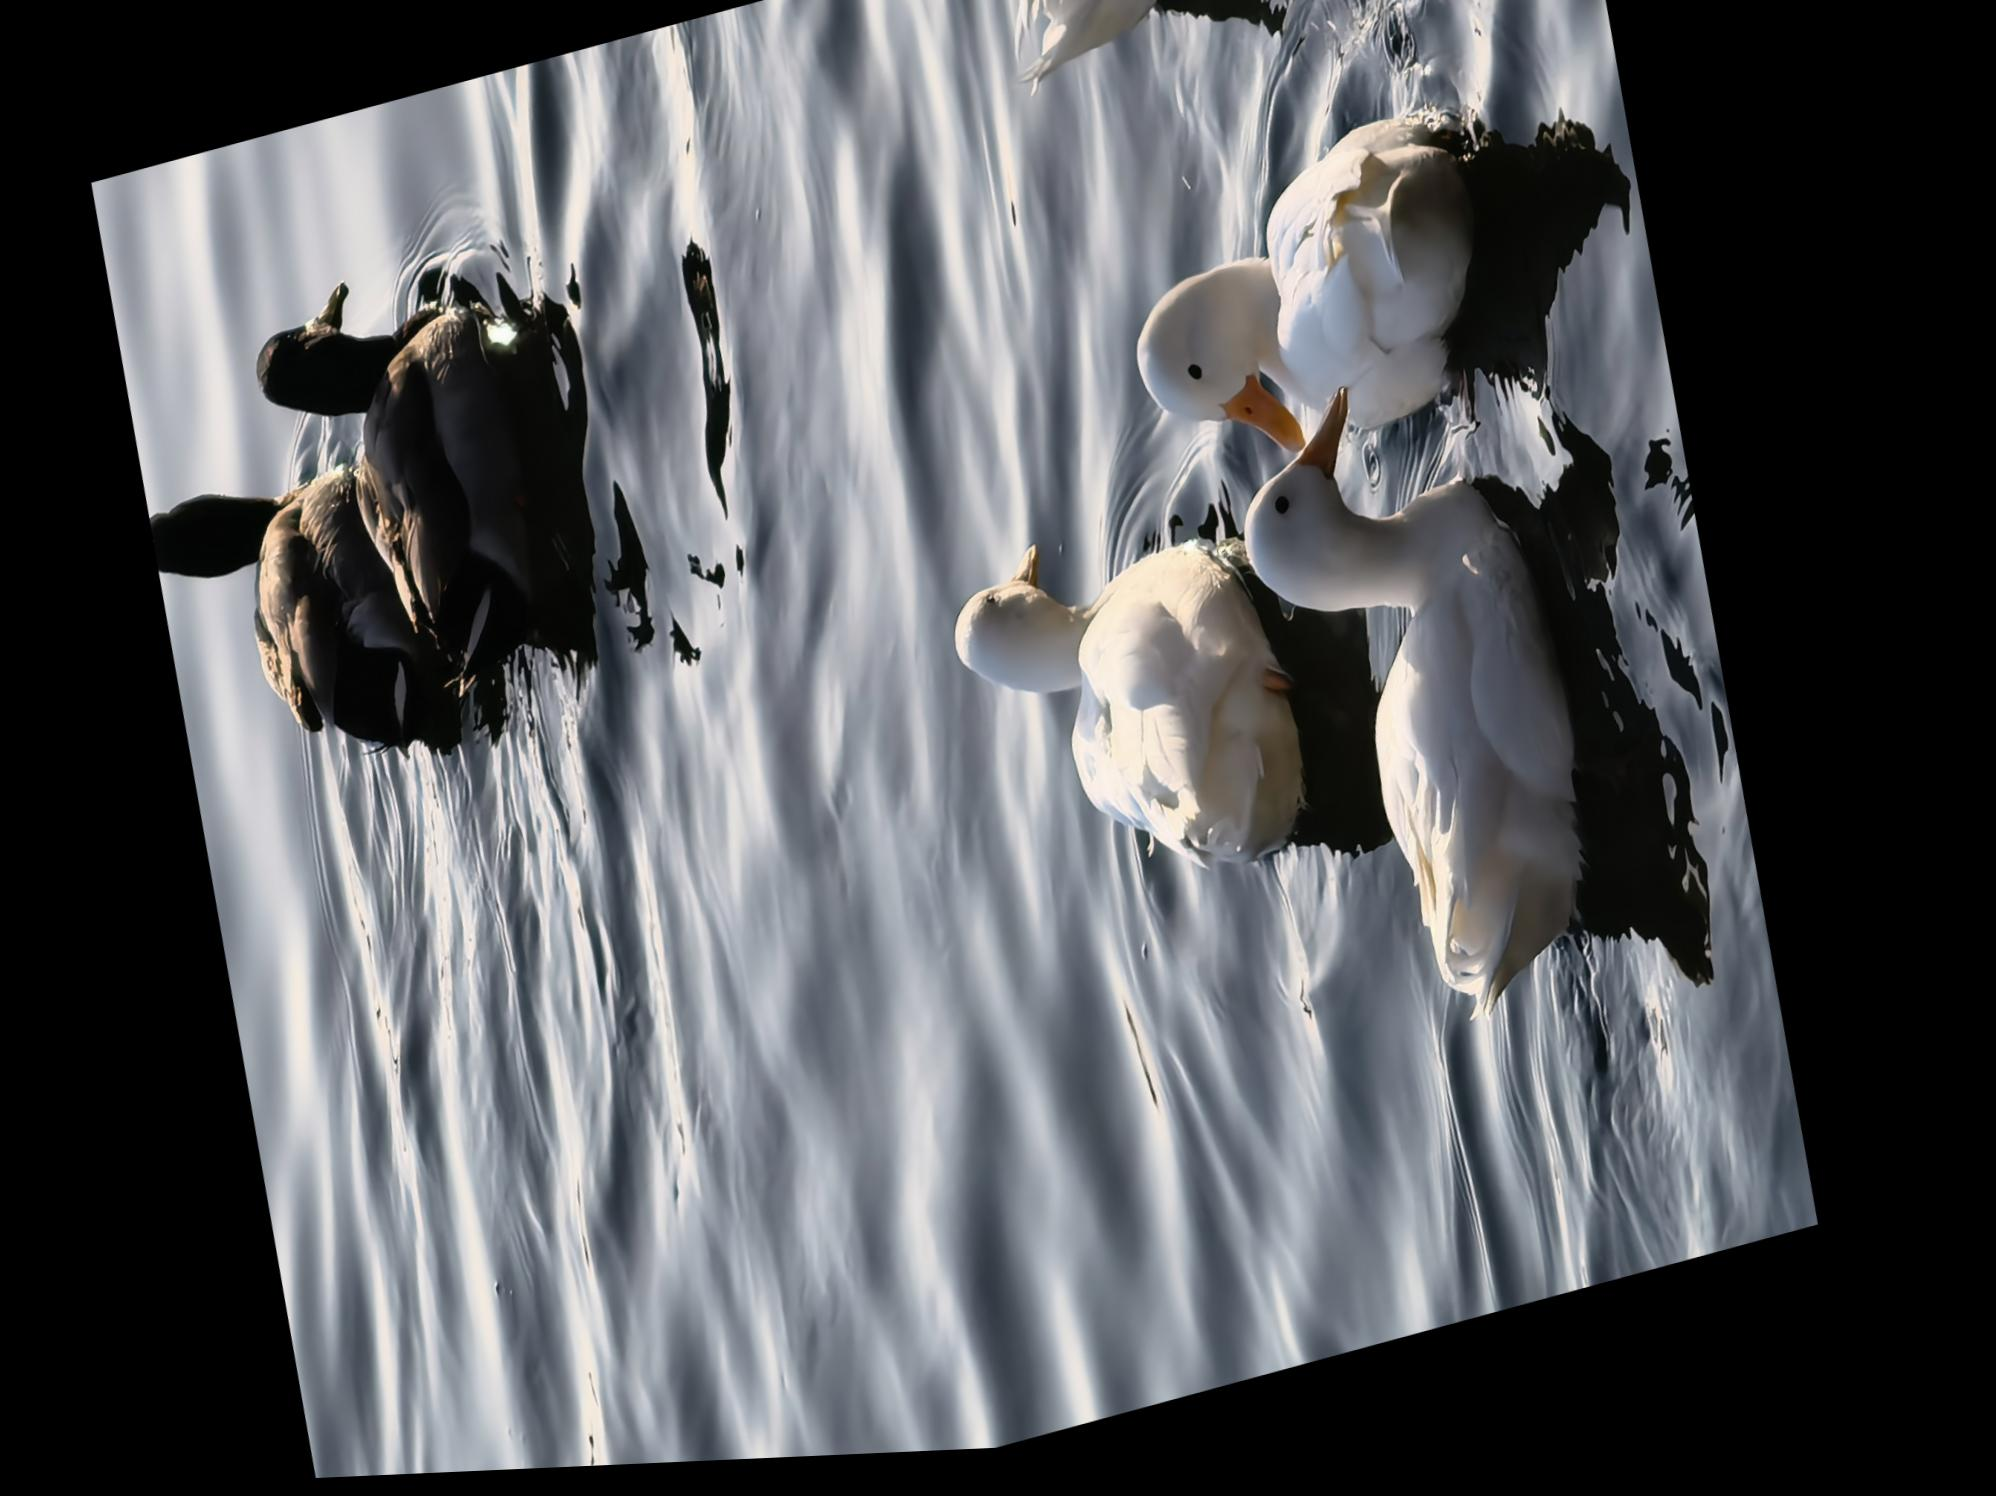duck: (1205, 356, 1670, 1064), (925, 484, 1358, 958), (221, 231, 615, 744), (1101, 101, 1532, 505), (138, 436, 494, 818), (970, 0, 1245, 109)
